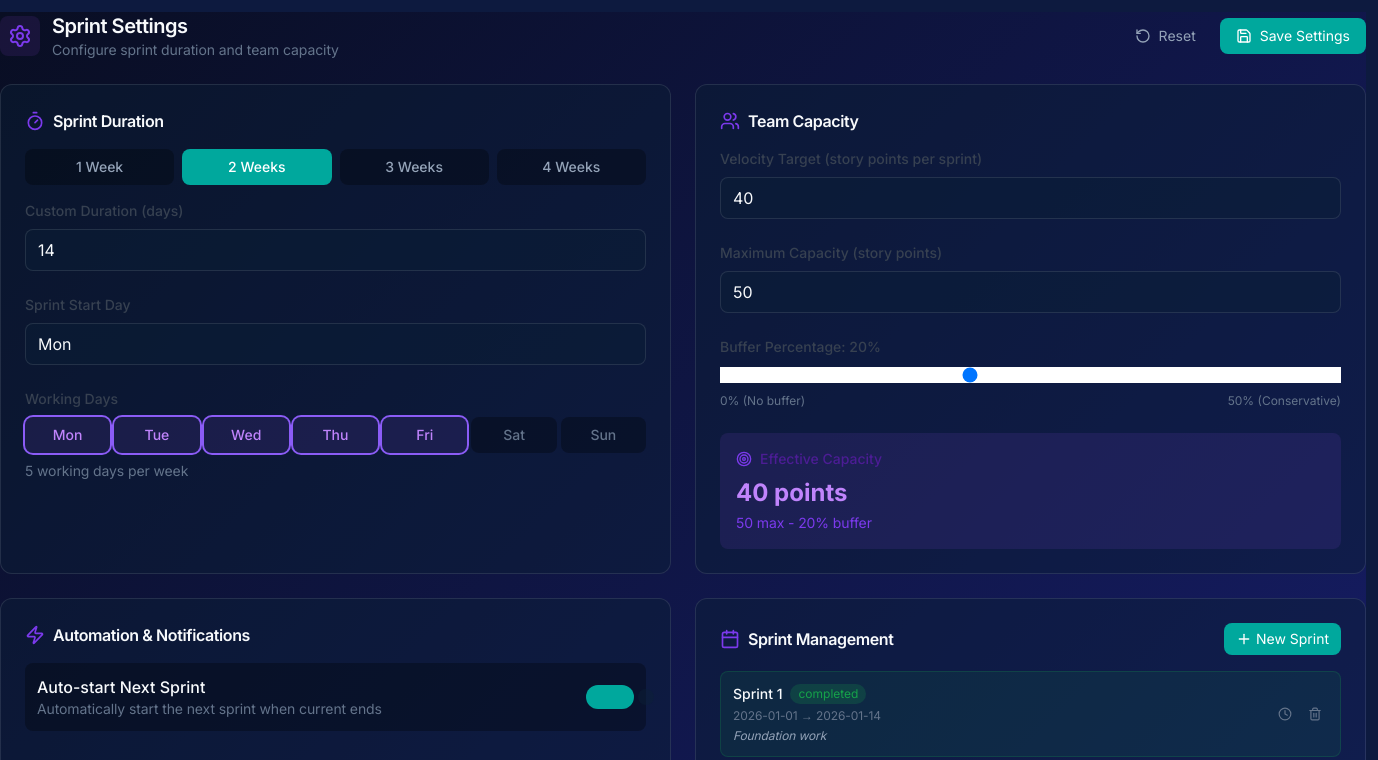
Test: SprintSettings — duration presets › clicking 3 Weeks preset sets duration to 21
Step 1. Click the button "3 Weeks" → (414, 167), box 340,149 -> 489,185
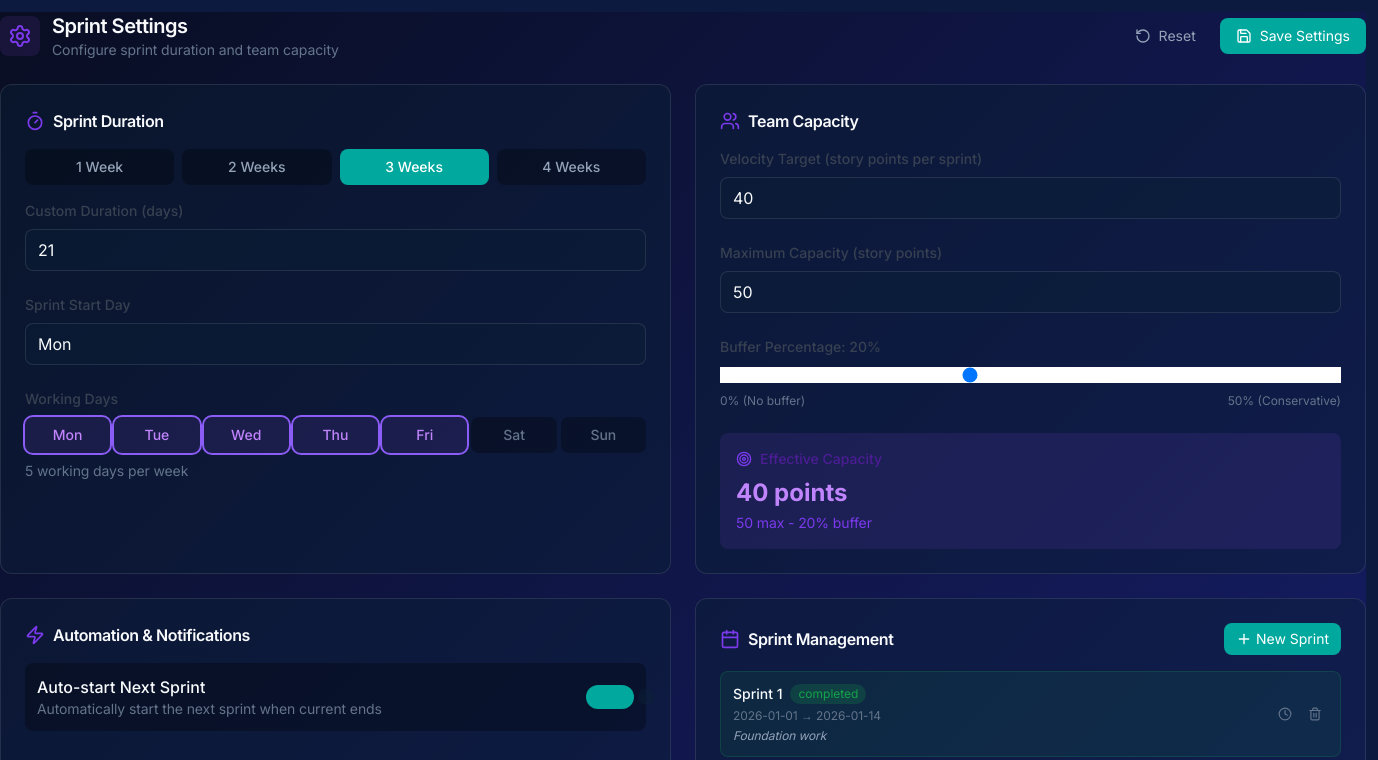
expect the number field below "Custom Duration (days)" holds "21": met, box 25,229 -> 646,271
